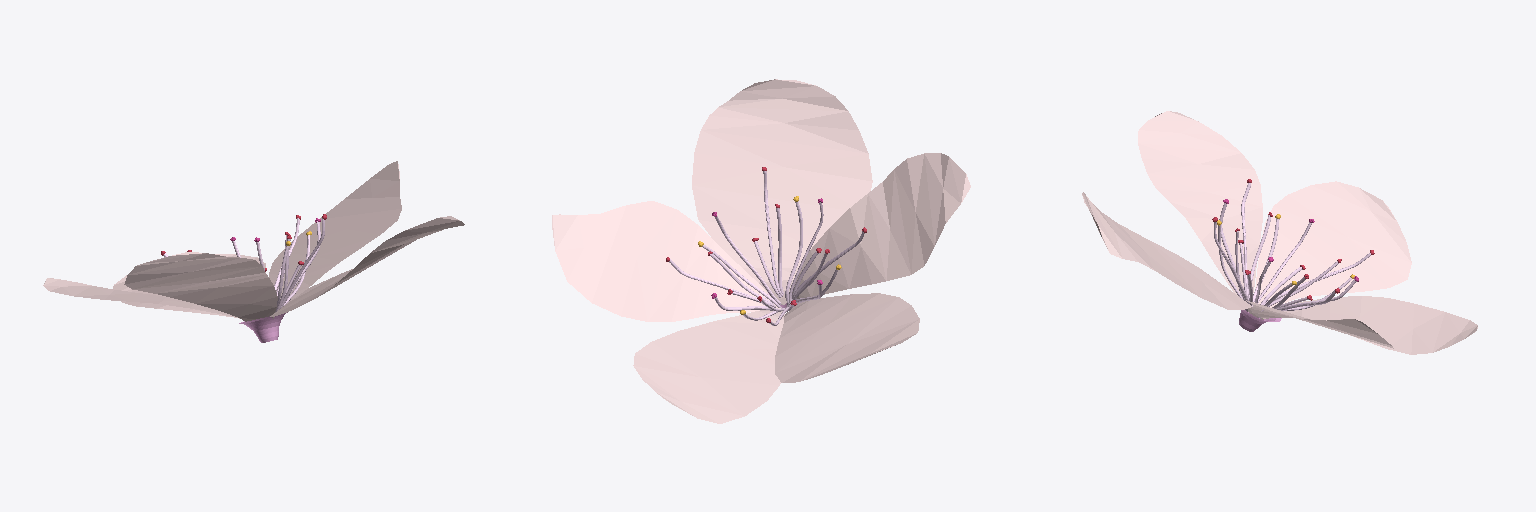
The model's file is sakura.obj.
3 renders of one model, left to right at view 1: azimuth 30°, elevation 25°; view 2: azimuth 150°, elevation 25°; view 3: azimuth 270°, elevation 25°, orthographic.
Parts seen in each view (by area): view 1: cherry_blossom_flower; view 2: cherry_blossom_flower; view 3: cherry_blossom_flower.
Part boxes in pixels (x1,y1,x2,y2): cherry_blossom_flower: (43,161,464,342); cherry_blossom_flower: (552,79,970,423); cherry_blossom_flower: (1082,111,1477,354).
Size of the model in its own units: 0.1671 by 0.0779 by 0.1603.